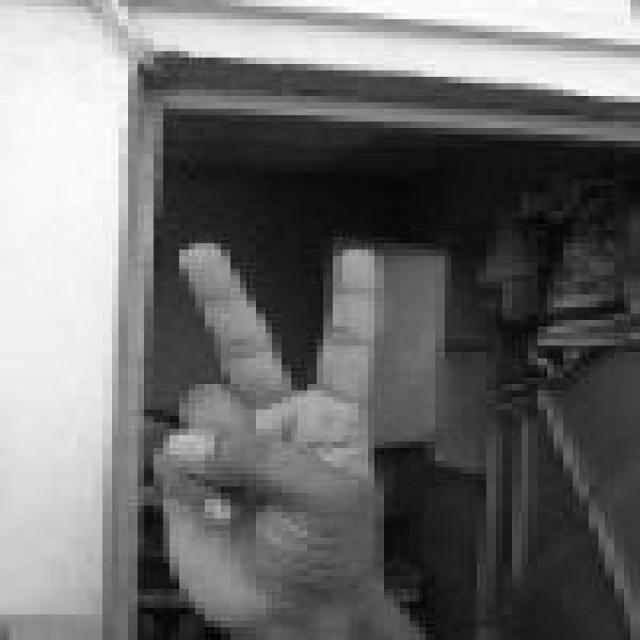V: (146, 230, 404, 640)
